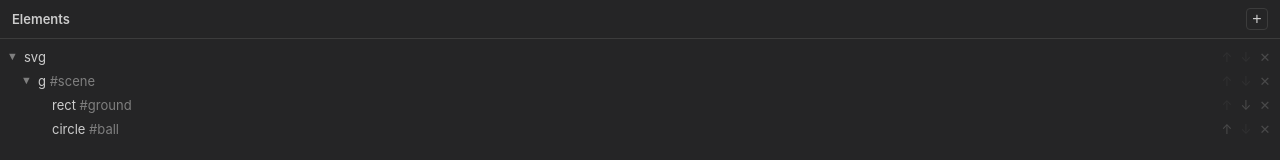
Test: ElementsPanel › deletes an element from the tree and clears a stale selection
Click the text "#ball" at (87, 129), box [85,121,119,137]
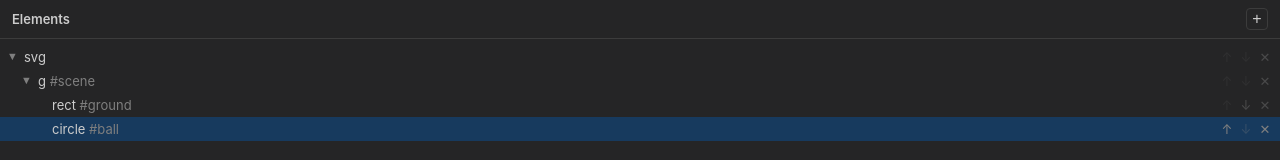
Click the button named "Delete circle" at (1265, 129), box [1256,120,1274,138]
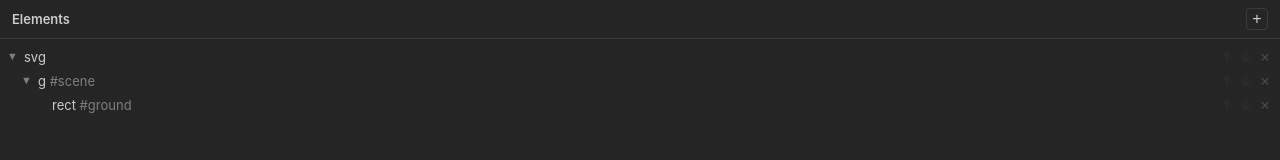
Result: the text "#ball" is gone
